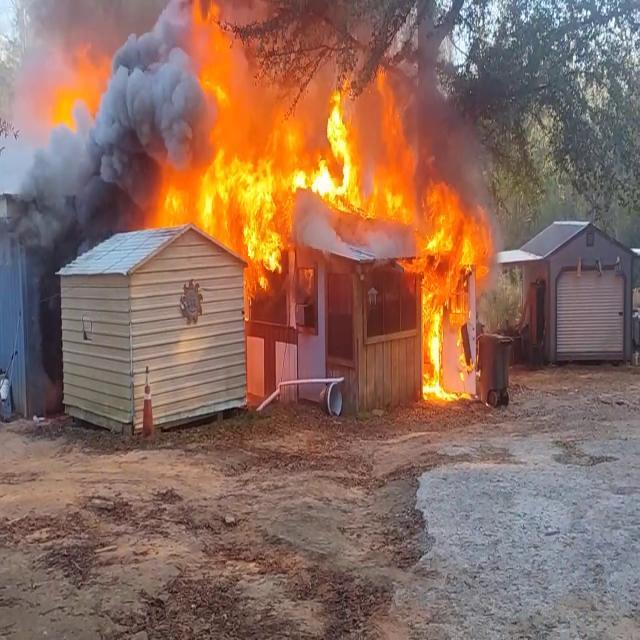Fire: (147, 40, 416, 278), (410, 177, 494, 403), (42, 39, 114, 132)
Smoke: (0, 115, 132, 258)
